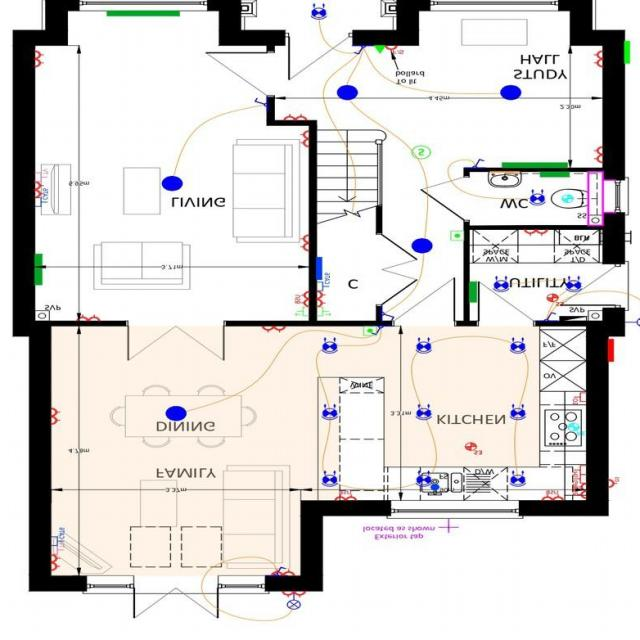BT Entry Point: (372, 44, 387, 58)
Cat 6 Data Socket: (52, 528, 68, 548), (315, 280, 334, 294), (32, 196, 48, 208)
Ceiling Mounted Continuous Extract Fan With Boost Mode Activated By Light Switch: (561, 191, 575, 208)
Ceiling Mounted Continuous Extract Fan With Local Boost Switch: (462, 439, 488, 456), (544, 292, 566, 308)
Co-Ax TV Socket: (48, 547, 76, 559), (36, 166, 51, 184)
Consumer Unit: (559, 316, 590, 326)
Double Socket: (254, 324, 294, 338), (591, 46, 610, 72), (591, 144, 610, 169), (521, 227, 553, 239), (51, 404, 64, 430), (75, 312, 105, 323), (300, 230, 313, 255), (301, 128, 314, 152), (280, 590, 308, 601), (49, 555, 64, 574), (285, 113, 308, 125), (273, 568, 298, 578), (34, 183, 50, 198), (318, 292, 332, 307), (36, 48, 44, 72)
Electric Meter Box: (607, 338, 617, 367)
External Wall Light: (282, 592, 304, 611), (624, 310, 640, 333)
Fused spur: (384, 42, 408, 59)
Gas Meter Box: (624, 34, 636, 67)
Hob Switch: (570, 464, 590, 476)
Light Switch: (362, 326, 388, 340), (256, 94, 269, 116), (271, 562, 286, 580), (469, 157, 489, 170), (379, 310, 396, 325), (544, 310, 562, 324), (353, 46, 369, 56)
Low Energy Downlighter: (411, 334, 438, 361), (309, 0, 331, 29), (507, 467, 531, 491), (508, 401, 530, 427), (414, 399, 436, 425), (318, 466, 343, 488), (324, 330, 342, 359), (508, 335, 530, 357), (494, 272, 513, 297), (565, 274, 586, 296), (412, 466, 434, 487), (318, 404, 344, 421), (526, 187, 548, 206)
Low Energy Pendant Light: (163, 399, 194, 425), (333, 83, 365, 104), (496, 82, 525, 103), (412, 236, 436, 256), (160, 177, 187, 194)
Mains Wired Smoke Detector: (412, 143, 432, 162)
Outside Socket: (607, 474, 627, 493)
Outside Tap: (439, 521, 461, 540)
Oven Switch: (571, 391, 592, 404), (566, 476, 594, 484)
Programmable Room Thermostat: (448, 230, 466, 242)
Radiator: (103, 9, 188, 20), (500, 162, 570, 173), (34, 251, 49, 290), (461, 284, 483, 309), (533, 174, 575, 183)
Recirculating Extractor Fan: (566, 419, 588, 439)
Telephone Socket: (317, 304, 336, 321), (290, 308, 310, 321)
USB Double Socket: (538, 491, 566, 503), (331, 492, 360, 503), (571, 485, 588, 501), (299, 292, 314, 310)
Underfloor Heating Manifold: (318, 257, 326, 284)
